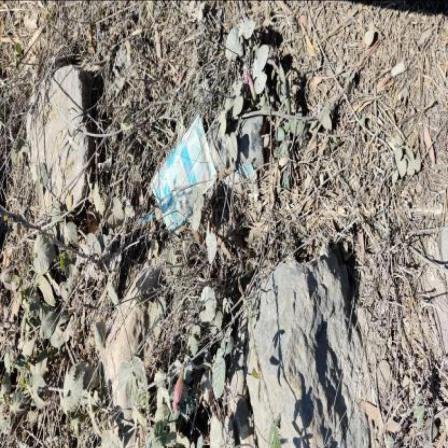Bottle: (209, 115, 266, 172)
Carton: (225, 160, 263, 212)
Plastic bag - wrapper: (150, 113, 219, 237)
